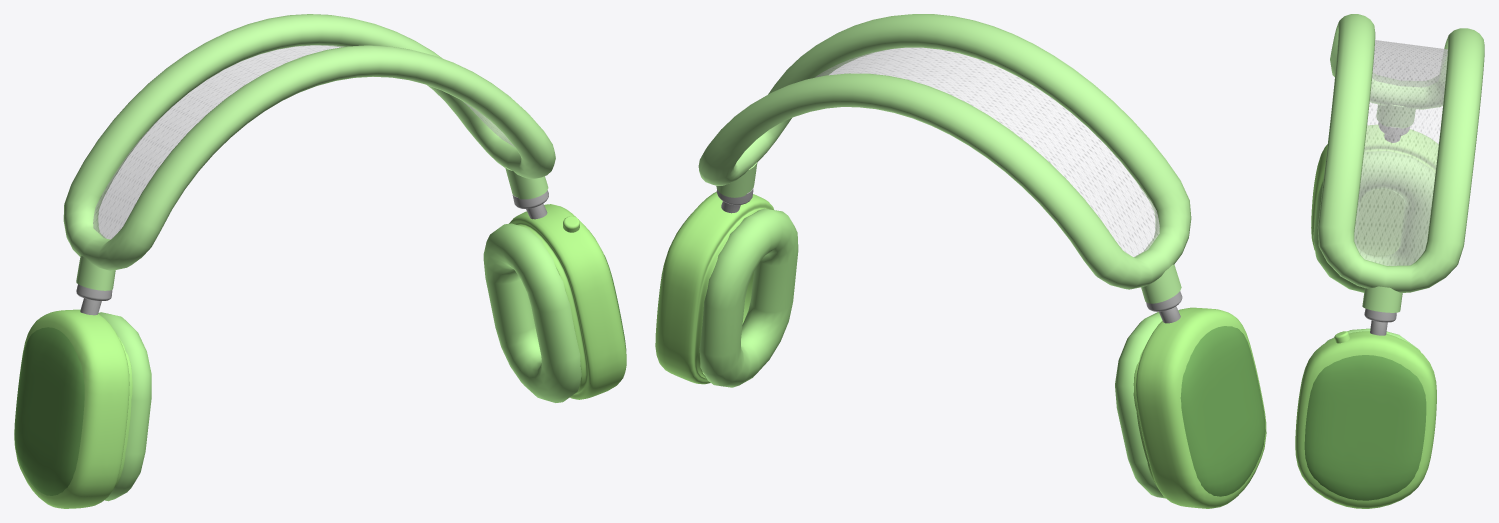
Rendered from Airpods_green_H.glb.
The picture shows the model from 3 angles, left to right: view 1: azimuth 30°, elevation 25°; view 2: azimuth 150°, elevation 25°; view 3: azimuth 270°, elevation 25°; orthographic projection. The views are drawn at different scales.
Parts seen in each view (by area): view 1: pCylinder4.001, polySurface9, polySurface7, polySurface15, pPlane1.001, polySurface13; view 2: pCylinder4.001, polySurface9, pPlane1.001, polySurface7, polySurface15, polySurface13; view 3: pCylinder4.001, pPlane1.001, polySurface15, polySurface9, polySurface7, polySurface13.
Boxes of the visible parts, left/top/right/bottom form: pCylinder4.001: left=63, top=14, right=555, bottom=290; polySurface9: left=14, top=204, right=626, bottom=508; polySurface7: left=98, top=223, right=581, bottom=501; polySurface15: left=14, top=255, right=626, bottom=495; pPlane1.001: left=93, top=45, right=514, bottom=239; polySurface13: left=76, top=190, right=548, bottom=315; pCylinder4.001: left=698, top=14, right=1191, bottom=303; polySurface9: left=655, top=192, right=1266, bottom=508; pPlane1.001: left=814, top=47, right=1159, bottom=256; polySurface7: left=699, top=208, right=1165, bottom=498; polySurface15: left=657, top=271, right=1265, bottom=496; polySurface13: left=716, top=188, right=1182, bottom=323; pCylinder4.001: left=1317, top=14, right=1484, bottom=312; pPlane1.001: left=1354, top=40, right=1447, bottom=265; polySurface15: left=1304, top=254, right=1426, bottom=500; polySurface9: left=1295, top=124, right=1438, bottom=508; polySurface7: left=1313, top=151, right=1435, bottom=351; polySurface13: left=1364, top=122, right=1409, bottom=335.
Bounding box in the file's own units: 0.0814 × 0.0564 × 0.0268.
Materials: 6 (1 with a texture image).
